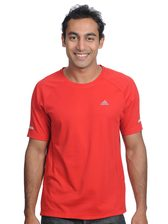clothoes: (27, 63, 144, 218)
